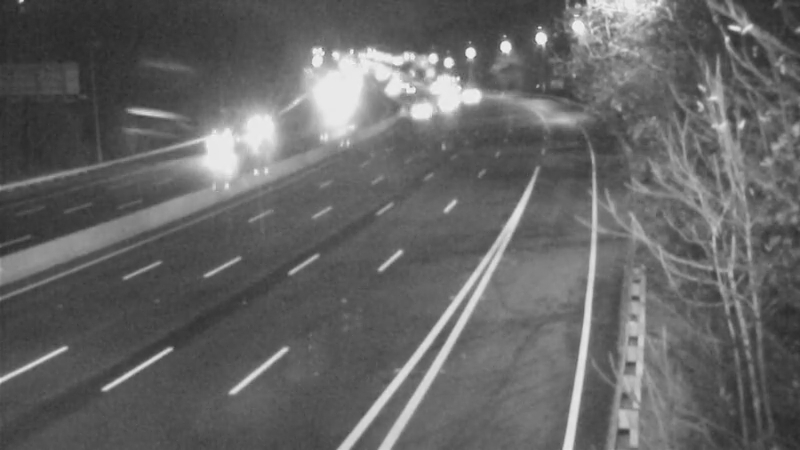vehicle: (174, 116, 254, 196), (444, 67, 494, 117), (421, 72, 471, 122), (397, 83, 447, 133), (242, 105, 292, 155)
